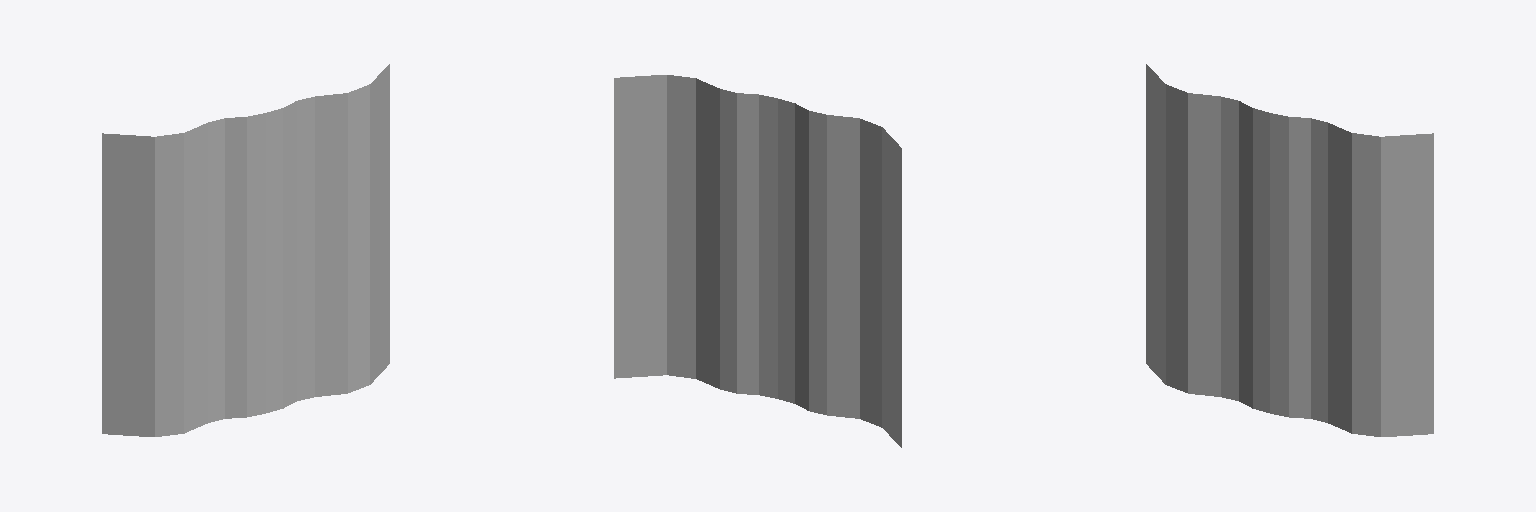
Rendered from central1.obj.
3 views of the same model, side by side, from view 1: azimuth 30°, elevation 25°; view 2: azimuth 150°, elevation 25°; view 3: azimuth 330°, elevation 25° (orthographic).
Parts seen in each view (by area): view 1: central.001; view 2: central.001; view 3: central.001.
Part boxes in pixels (x1,y1,x2,y2): central.001: (102, 64, 389, 436); central.001: (614, 75, 901, 447); central.001: (1146, 64, 1433, 436).
Size of the model in its own units: 2 by 2 by 0.2401.